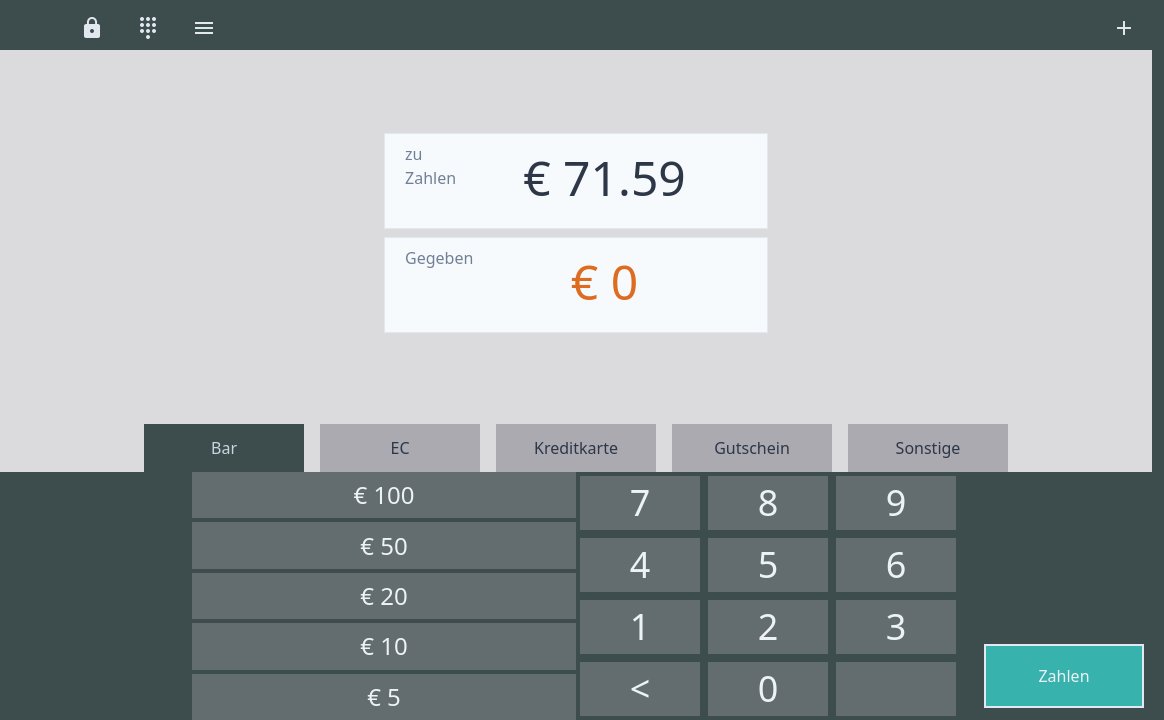
Scenario: Topbar › Add Button creates a new Tab
Click the button with test id "ButtonAdd" at (1124, 31), box [1096,12,1152,50]
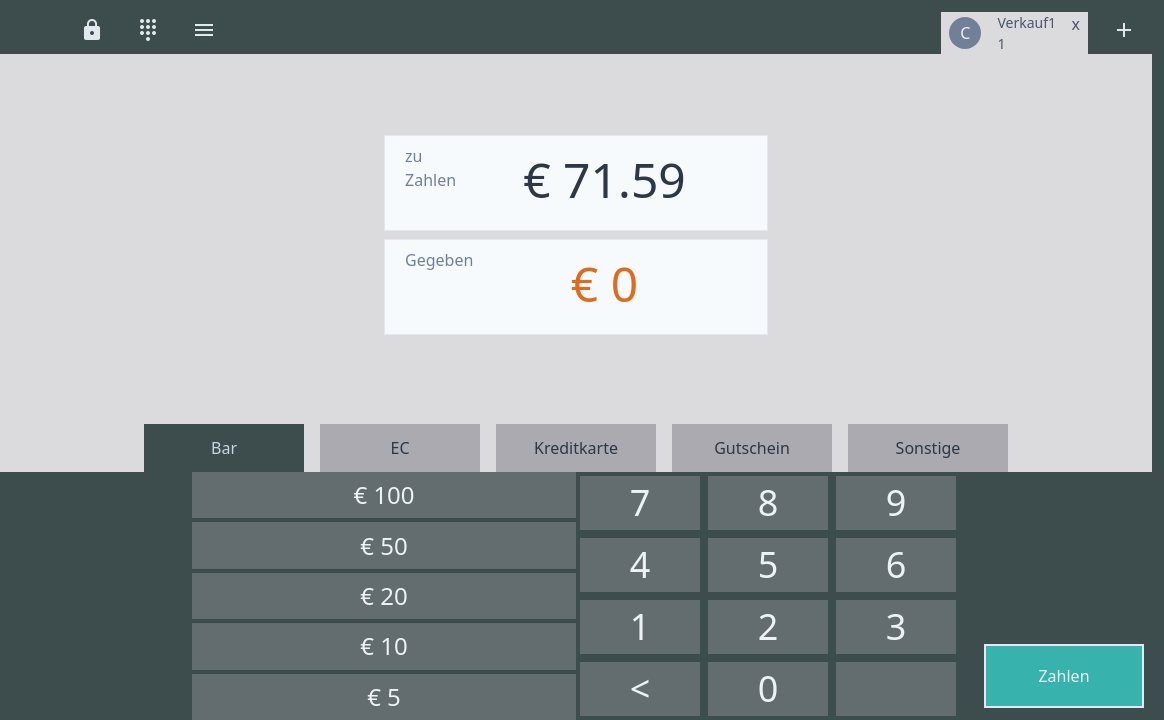
expect the button with test id "Tab1" is shown: met, box [941,12,1088,54]
expect the button with test id "Close-Tab" is shown: met, box [1072,12,1089,36]
